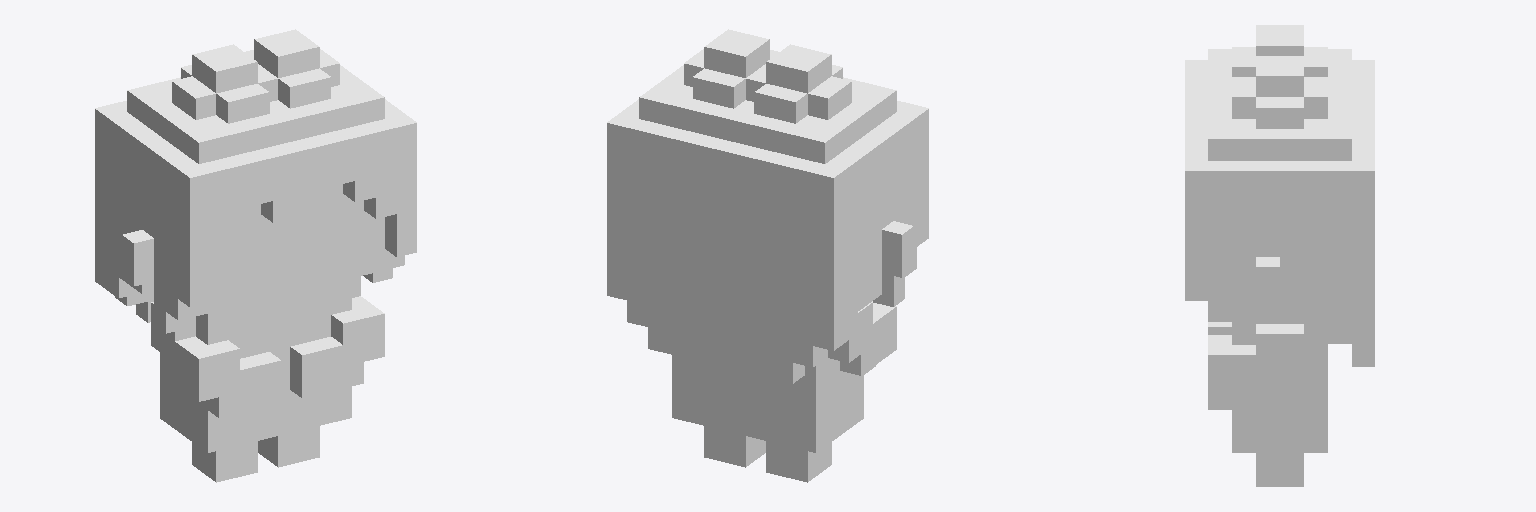
File: Charactor.obj
The picture shows the model from 3 angles: view 1: azimuth 30°, elevation 25°; view 2: azimuth 150°, elevation 25°; view 3: azimuth 270°, elevation 25°; orthographic projection.
Visible parts, largest first — view 1: object 1; view 2: object 1; view 3: object 1.
Boxes of the visible parts, x1=… form: object 1: x1=95, y1=29, x2=416, y2=482; object 1: x1=607, y1=29, x2=928, y2=482; object 1: x1=1185, y1=25, x2=1374, y2=486.
Bounding box in the file's own units: 1.3 × 1.9 × 0.8.